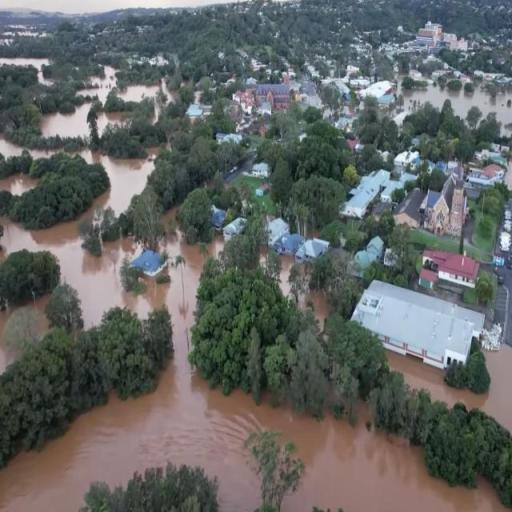flood: (0, 149, 511, 512), (389, 346, 512, 431), (404, 86, 512, 122), (40, 103, 88, 136), (82, 66, 115, 102), (301, 293, 330, 323), (0, 174, 36, 194), (119, 86, 162, 100), (98, 113, 125, 131), (281, 257, 294, 294), (0, 59, 47, 69), (0, 136, 22, 156), (30, 149, 52, 157)
house: (352, 272, 480, 382), (422, 246, 482, 298), (342, 169, 386, 224), (420, 188, 448, 230), (252, 82, 294, 110), (130, 245, 164, 279), (266, 217, 288, 248), (300, 236, 330, 258), (222, 216, 246, 243)
